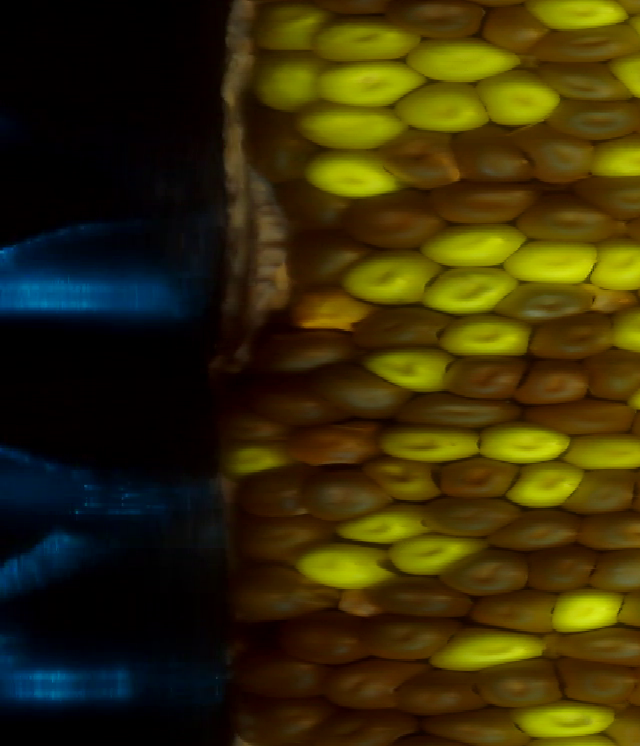fluorescent: (296, 102, 412, 151), (405, 35, 529, 80), (320, 9, 418, 62), (392, 81, 488, 134), (335, 249, 435, 299), (440, 311, 539, 359), (475, 71, 562, 124), (513, 701, 619, 744), (435, 628, 550, 667), (303, 149, 400, 195), (320, 57, 421, 101), (378, 419, 482, 461), (300, 546, 399, 590), (430, 265, 515, 316), (425, 223, 528, 265), (483, 420, 575, 467), (360, 346, 451, 390), (247, 57, 325, 108), (392, 529, 484, 572), (513, 241, 598, 286), (550, 586, 624, 637), (508, 461, 583, 508), (256, 4, 324, 55), (345, 508, 424, 545), (589, 237, 640, 293), (534, 1, 629, 30), (568, 432, 640, 470), (581, 134, 640, 176), (208, 441, 279, 472), (605, 45, 640, 99), (610, 307, 640, 355)
nonfluorescent: (346, 188, 442, 248), (381, 130, 465, 195), (521, 191, 625, 243), (226, 567, 333, 617), (283, 612, 377, 667), (455, 125, 536, 187), (402, 390, 519, 429), (524, 120, 596, 183), (225, 649, 319, 697), (471, 591, 561, 641), (430, 180, 533, 223), (354, 302, 447, 349), (321, 657, 408, 707), (363, 618, 457, 664), (544, 18, 640, 62), (477, 655, 565, 703), (523, 397, 634, 435), (329, 365, 404, 420), (549, 93, 636, 140), (442, 553, 545, 592), (252, 332, 352, 372), (425, 707, 536, 743), (442, 354, 525, 402), (305, 469, 388, 517), (556, 656, 631, 709), (246, 124, 310, 186), (366, 580, 470, 618), (529, 309, 613, 356), (539, 57, 626, 102), (236, 697, 320, 743), (419, 498, 518, 537), (246, 375, 323, 425), (233, 467, 310, 517), (551, 627, 640, 670), (325, 708, 423, 746), (519, 355, 589, 407), (526, 543, 600, 591), (494, 511, 587, 548), (235, 519, 328, 556), (396, 672, 478, 713), (397, 4, 486, 40), (505, 282, 594, 318), (284, 235, 363, 275), (440, 457, 517, 498), (571, 470, 638, 516), (278, 190, 350, 232), (368, 459, 440, 501), (482, 3, 546, 50), (293, 424, 372, 462), (589, 349, 640, 399), (586, 171, 640, 212), (586, 550, 640, 591), (578, 516, 640, 551), (609, 706, 640, 746)
